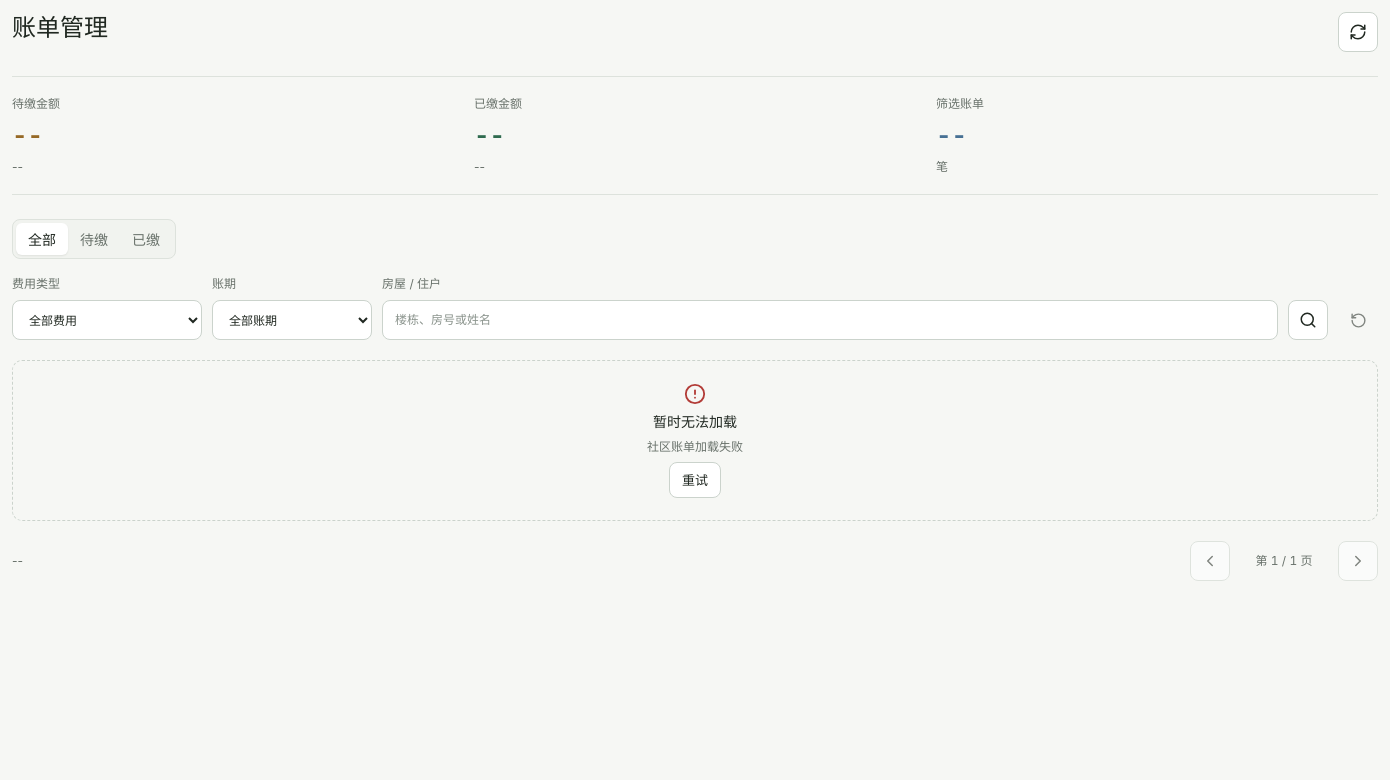
it: community billing management › shows a recoverable loading error without stale totals
Expected: the message shows "社区账单加载失败", [647, 439, 743, 454]
Click the button "重试".
click(695, 480)  # box [669, 462, 721, 498]
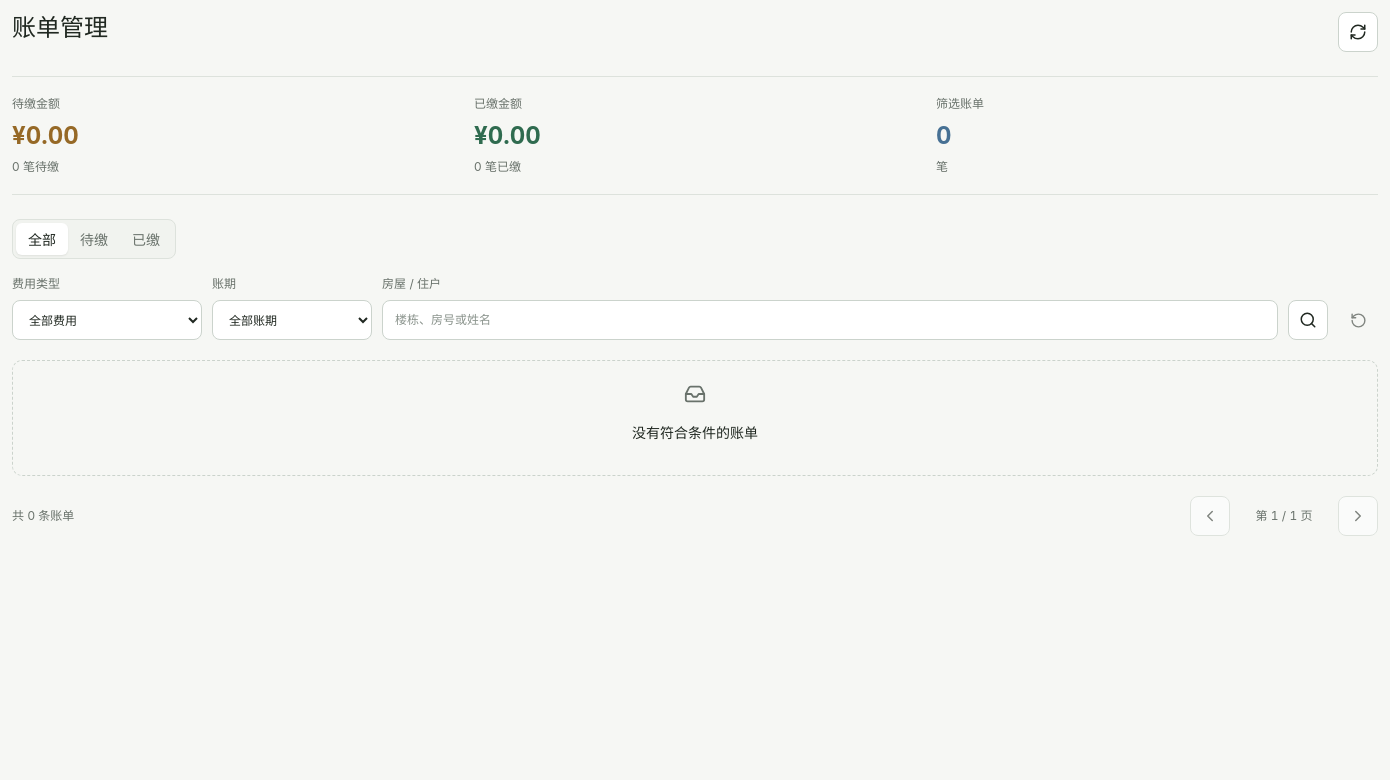
Expected: the text "没有符合条件的账单" is shown, [632, 424, 758, 441]
Expected: the message "暂时无法加载 社区账单加载失败 重试" is gone
